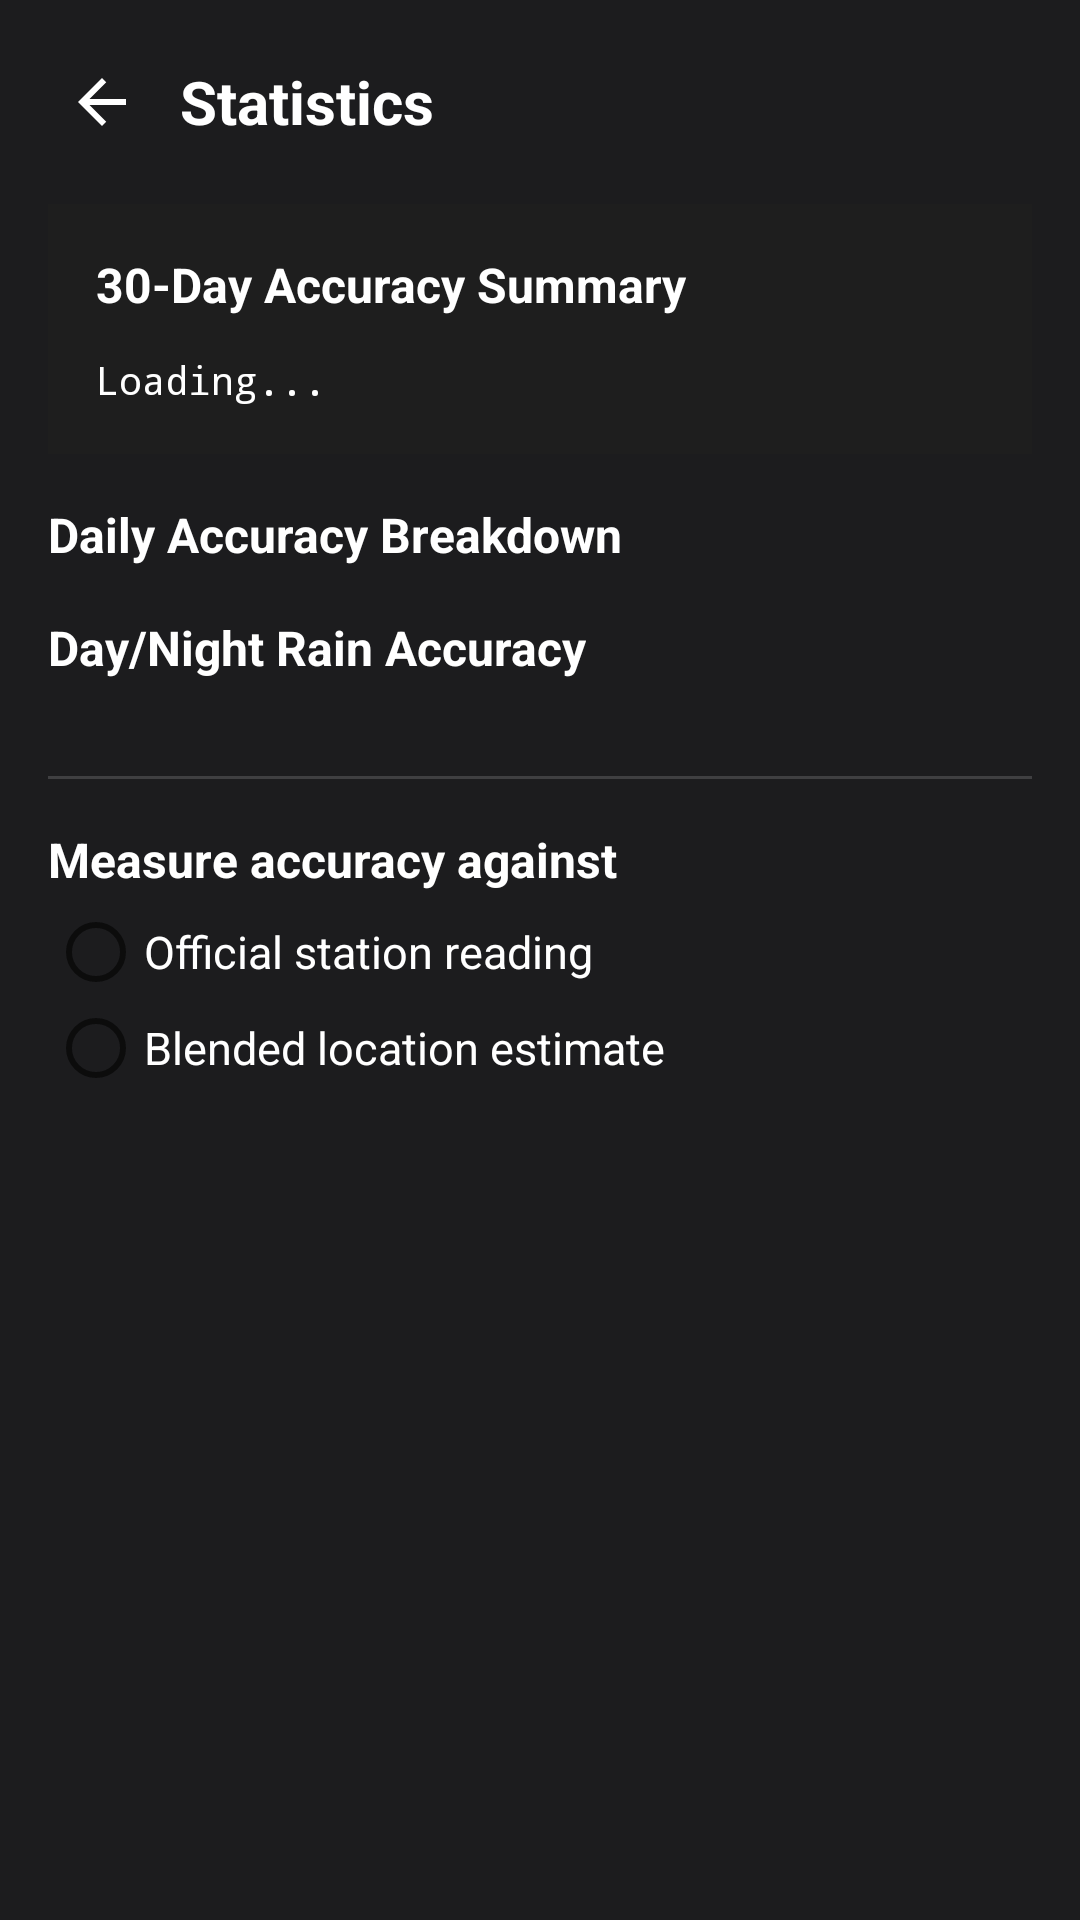

Locate icon controls on the screen. Image size 1080*1920, boxes as {"x1": x1, "y1": y1, "x2": x2, "y2": y2}.
Back: {"x1": 78, "y1": 78, "x2": 126, "y2": 126}
